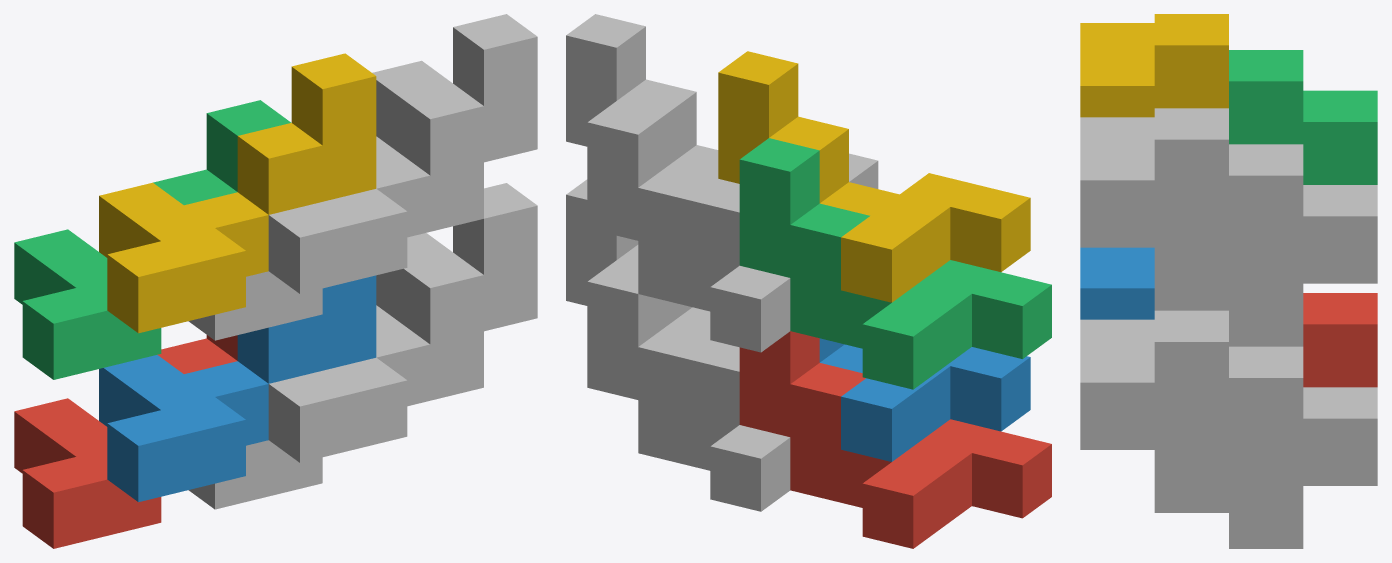
The model's file is tiling.obj.
The picture shows the model from 3 angles, left to right: view 1: azimuth 30°, elevation 25°; view 2: azimuth 150°, elevation 25°; view 3: azimuth 270°, elevation 25°; orthographic projection. The views are drawn at different scales.
Parts seen in each view (by area): view 1: copy_1_domain_4, copy_1_domain_8, copy_1_domain_6, copy_1_domain_2, copy_1_domain_3, copy_1_domain_1, copy_1_domain_7, copy_1_domain_5; view 2: copy_1_domain_3, copy_1_domain_1, copy_1_domain_4, copy_1_domain_7, copy_1_domain_5, copy_1_domain_8, copy_1_domain_2, copy_1_domain_6; view 3: copy_1_domain_8, copy_1_domain_6, copy_1_domain_7, copy_1_domain_5, copy_1_domain_3, copy_1_domain_4, copy_1_domain_1, copy_1_domain_2.
Part boxes in pixels (x1,y1,x2,y2): copy_1_domain_4: (99, 53, 376, 333); copy_1_domain_8: (268, 14, 537, 293); copy_1_domain_6: (268, 183, 537, 462); copy_1_domain_2: (99, 275, 376, 502); copy_1_domain_3: (14, 100, 290, 379); copy_1_domain_1: (14, 335, 237, 548); copy_1_domain_7: (188, 60, 452, 340); copy_1_domain_5: (188, 233, 452, 509); copy_1_domain_3: (739, 138, 1051, 389); copy_1_domain_1: (739, 331, 1051, 548); copy_1_domain_4: (718, 51, 1030, 302); copy_1_domain_7: (587, 101, 790, 352); copy_1_domain_5: (587, 260, 790, 511); copy_1_domain_8: (566, 14, 878, 265); copy_1_domain_2: (819, 338, 1030, 461); copy_1_domain_6: (566, 179, 739, 424); copy_1_domain_8: (1080, 108, 1228, 310); copy_1_domain_6: (1080, 310, 1228, 512); copy_1_domain_7: (1229, 144, 1377, 346); copy_1_domain_5: (1229, 346, 1377, 548); copy_1_domain_3: (1229, 50, 1377, 184); copy_1_domain_4: (1080, 14, 1228, 117); copy_1_domain_1: (1303, 293, 1377, 387); copy_1_domain_2: (1080, 247, 1154, 319).
Bounding box in the file's own units: 9 × 7 × 4.
